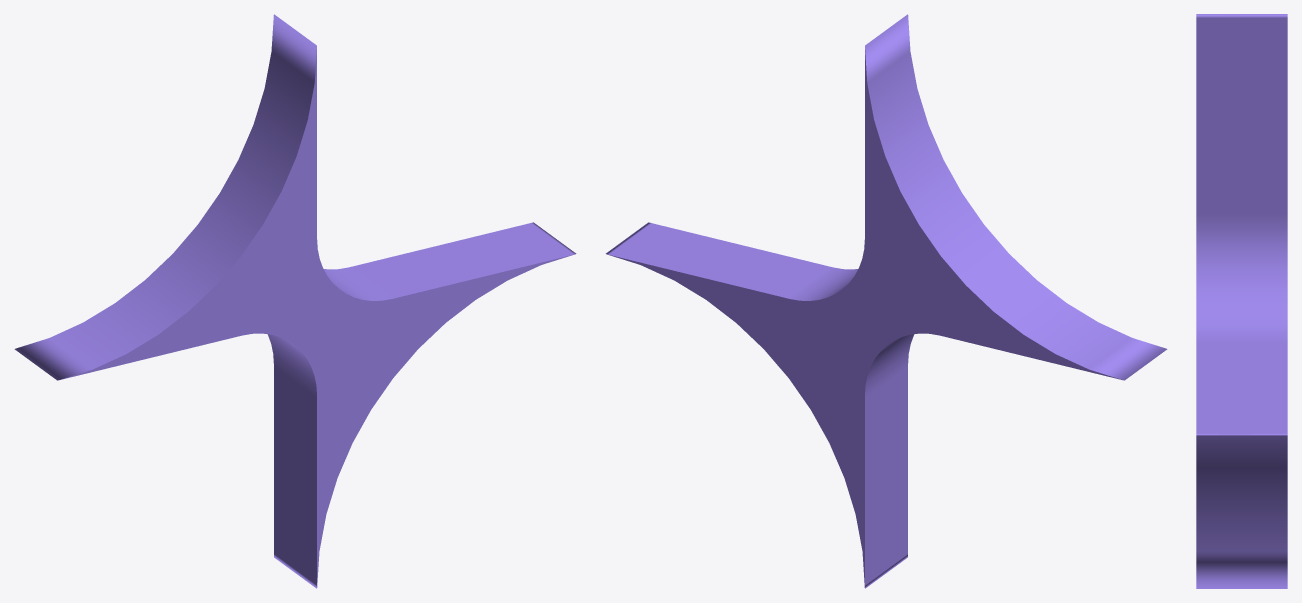
Rendered from star.gltf.
3 renders of one model, left to right at view 1: azimuth 30°, elevation 25°; view 2: azimuth 150°, elevation 25°; view 3: azimuth 270°, elevation 25°, orthographic. The views are drawn at different scales.
Visible parts, largest first — view 1: Curve; view 2: Curve; view 3: Curve.
Boxes of the visible parts, <box> form: Curve: <box>14,14,576,588</box>; Curve: <box>605,14,1167,588</box>; Curve: <box>1196,14,1287,588</box>.
Size of the model in its own units: 1.1 by 1.1 by 0.1591.
